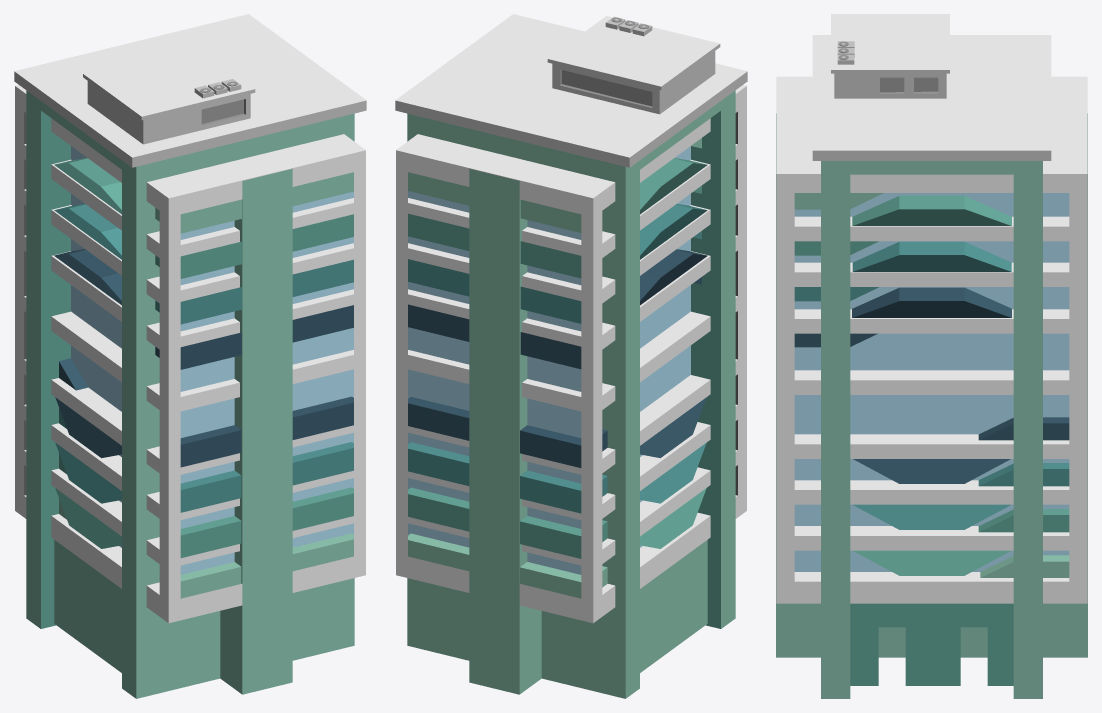
The model's file is city8.obj.
3 renders of one model, left to right at view 1: azimuth 30°, elevation 25°; view 2: azimuth 150°, elevation 25°; view 3: azimuth 270°, elevation 25°, orthographic.
Parts seen in each view (by area): view 1: home_high.007_Plane.578; view 2: home_high.007_Plane.578; view 3: home_high.007_Plane.578.
Boxes of the visible parts, <box> form: home_high.007_Plane.578: <box>14,14,366,698</box>; home_high.007_Plane.578: <box>395,14,747,698</box>; home_high.007_Plane.578: <box>776,14,1087,698</box>.
Bounding box in the file's own units: 0.0591 × 0.1398 × 0.0673.
Materials: 1 (1 with a texture image).
